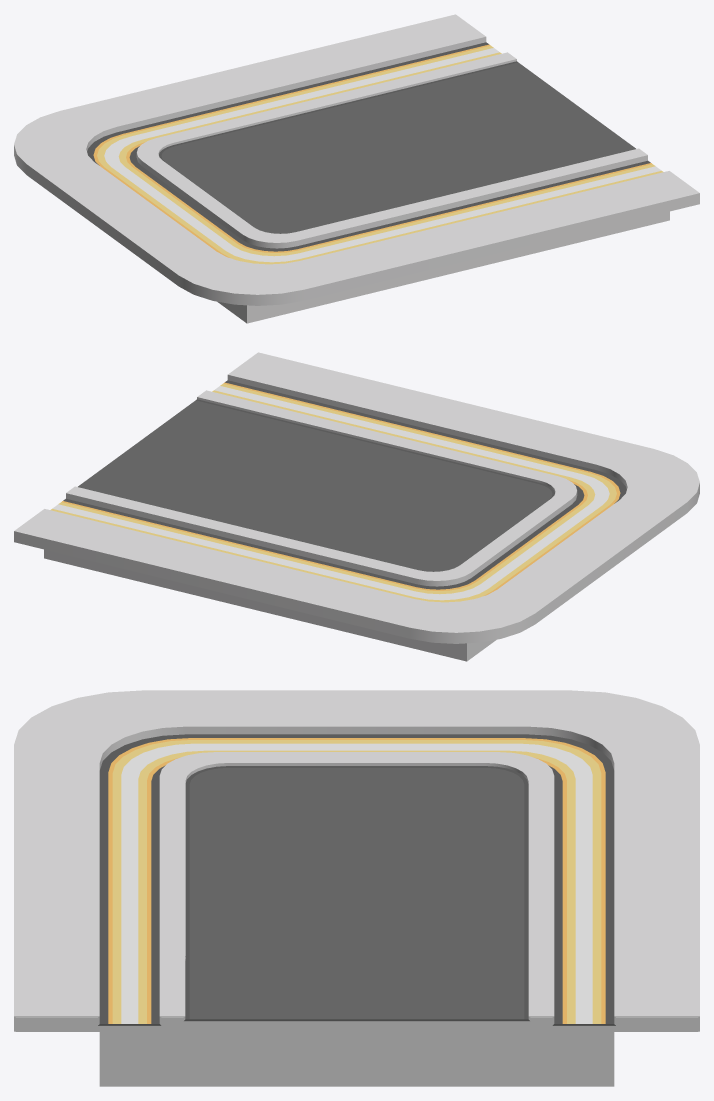
Rendered from MMo_C_001_LT_a_9x8.fbx.
The picture shows the model from 3 angles, top to bottom: view 1: azimuth 30°, elevation 25°; view 2: azimuth 150°, elevation 25°; view 3: azimuth 270°, elevation 25°; orthographic projection. The views are drawn at different scales.
Parts seen in each view (by area): view 1: MMo_C_001_LT_a_9x8; view 2: MMo_C_001_LT_a_9x8; view 3: MMo_C_001_LT_a_9x8.
Boxes of the visible parts, box(x1,y1,x2,y2) form: MMo_C_001_LT_a_9x8: box(14, 14, 699, 323); MMo_C_001_LT_a_9x8: box(14, 352, 699, 661); MMo_C_001_LT_a_9x8: box(14, 690, 699, 1086).
Size of the model in its own units: 9 by 0.9 by 8.
